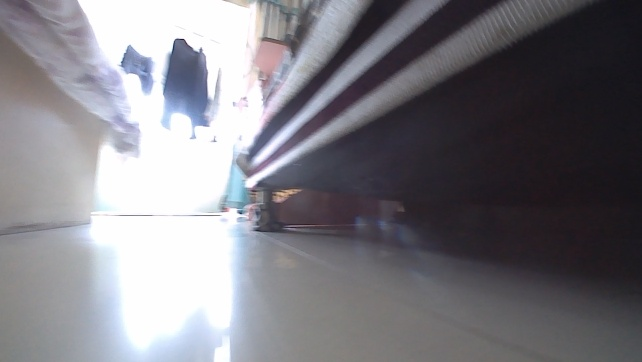bed1: (0, 0, 148, 238)
sofa1: (235, 0, 641, 234)
